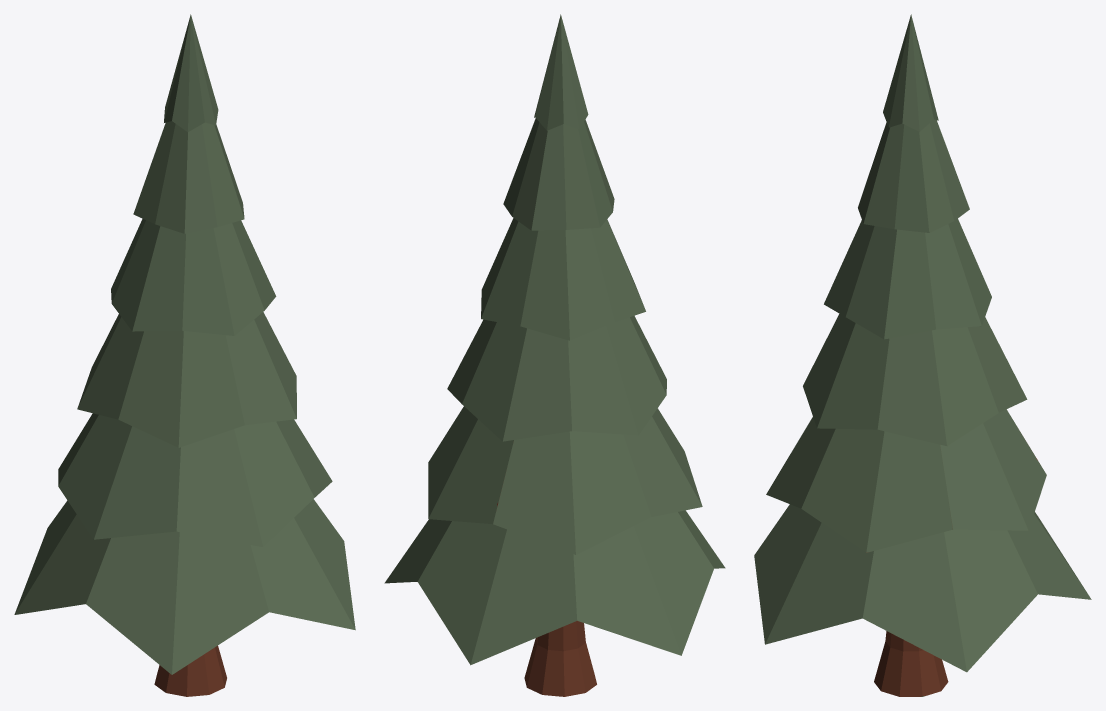
File: forest_tree_02.glb
The picture shows the model from 3 angles, left to right: view 1: azimuth 30°, elevation 25°; view 2: azimuth 150°, elevation 25°; view 3: azimuth 270°, elevation 25°; orthographic projection.
Visible parts, largest first — view 1: tree; view 2: tree; view 3: tree.
Part boxes in pixels (x1,y1,x2,y2): tree: [14, 14, 355, 696]; tree: [384, 14, 725, 696]; tree: [754, 14, 1091, 696].
Bounding box in the file's own units: 6.93 × 14.86 × 6.81.
Materials: 1 (1 with a texture image).
